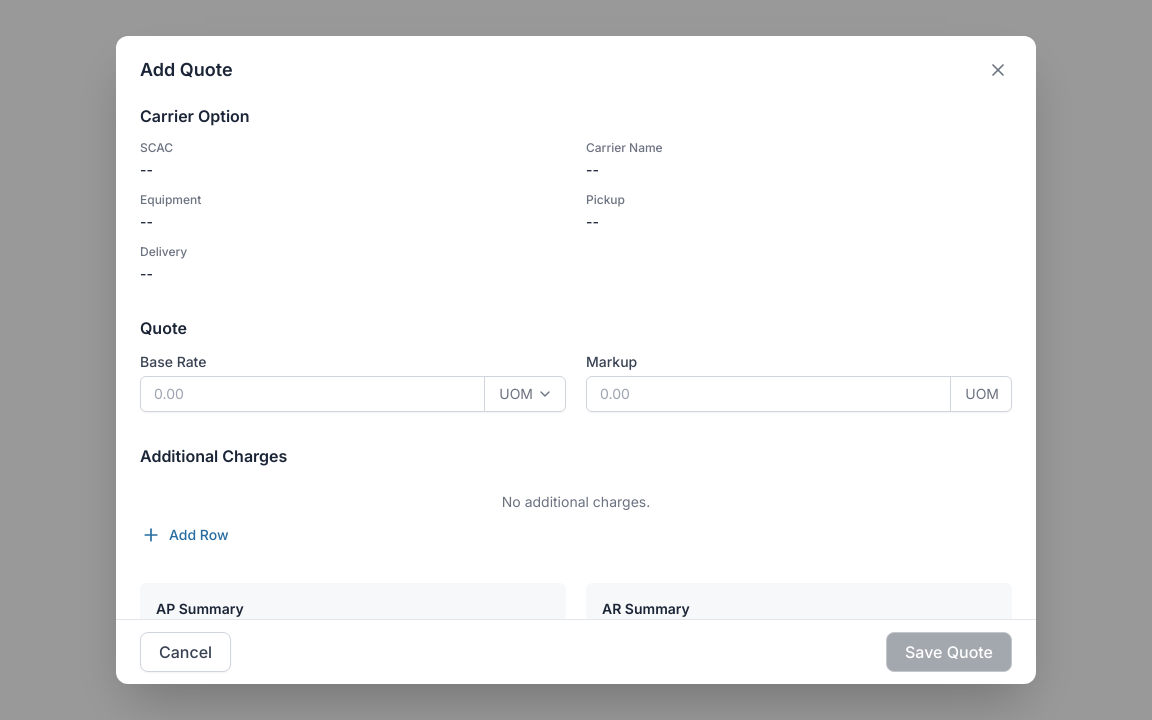
Test: QuoteModal — validation messages (LINX-13895) › Charge Code is required once a row is added
What coordinates should you click on to do the following:
click the button "Add Row"
I would click on:
 (185, 535)
Its box is [140, 524, 230, 546].
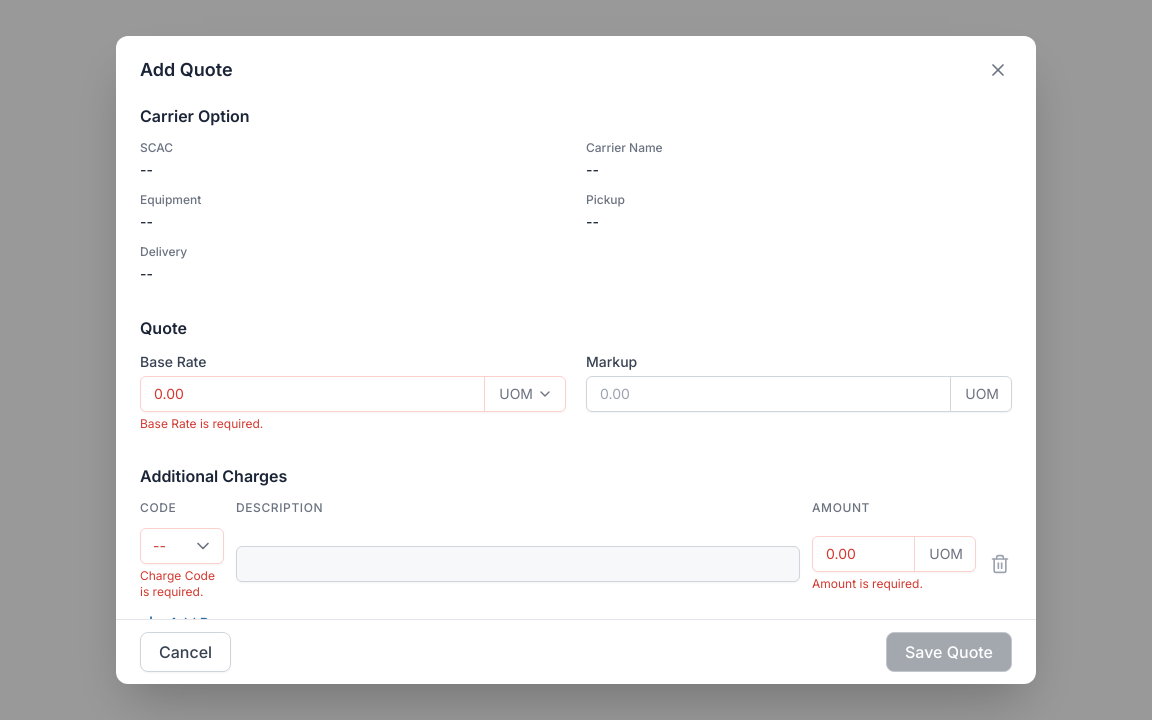
Now the text "Charge Code is required." is shown, box [140, 568, 224, 600]
